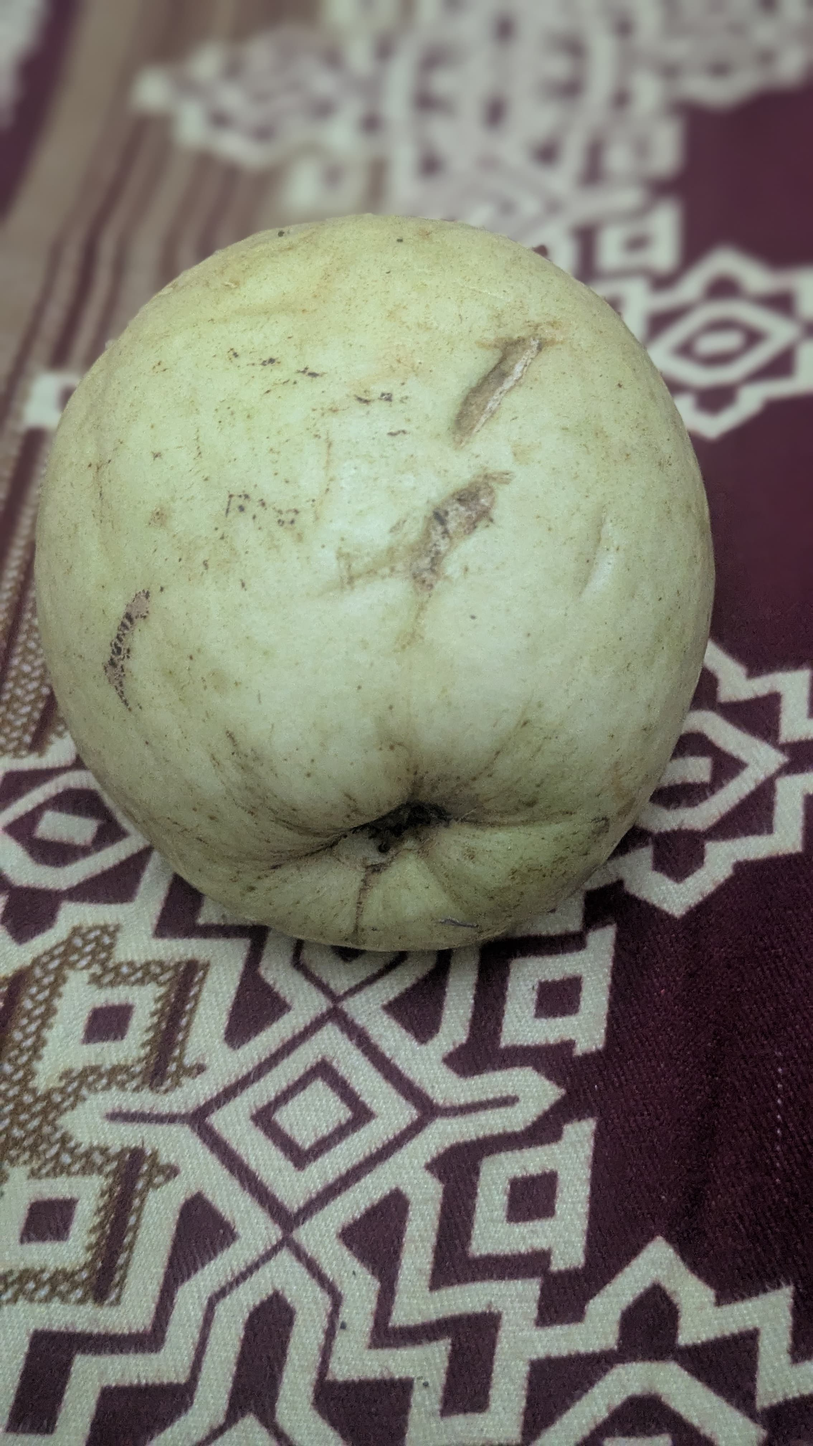guava: (66, 48, 689, 1233)
